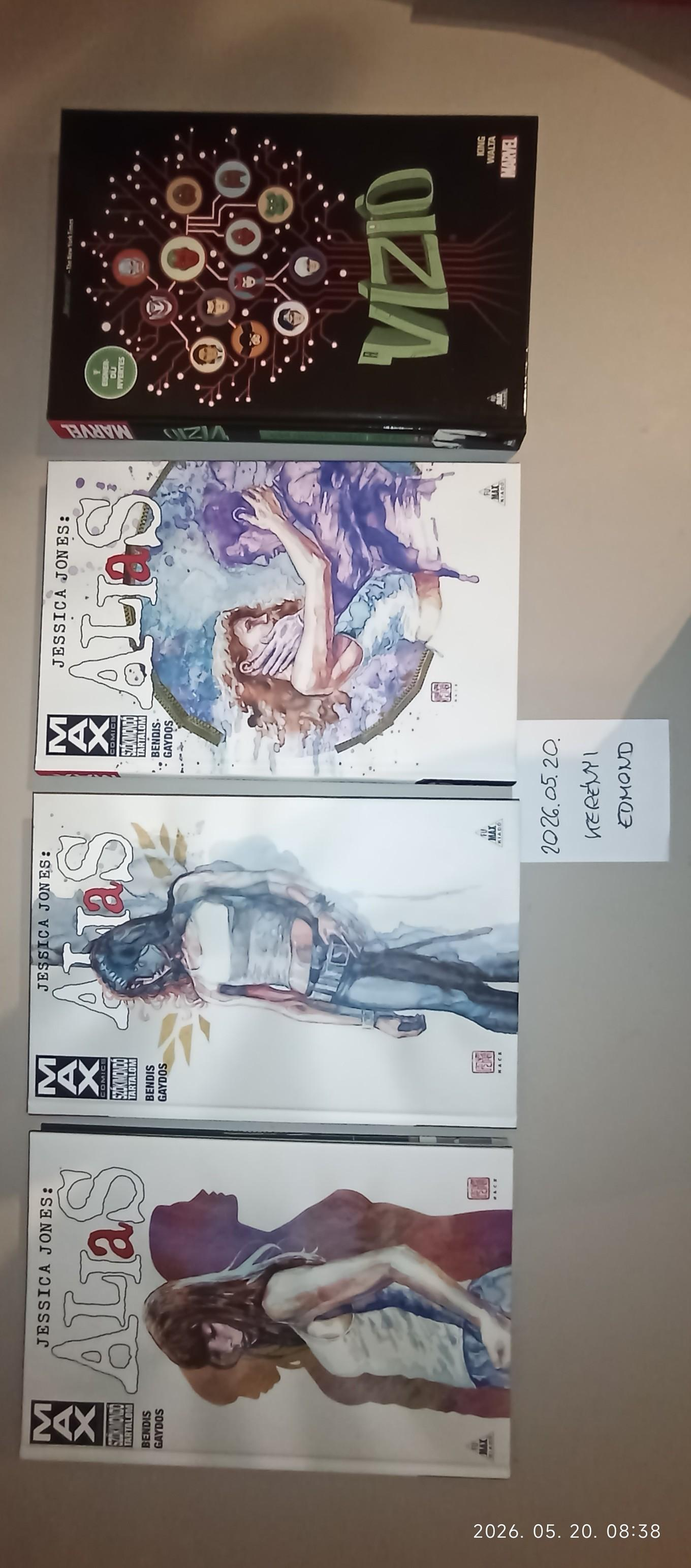comic: (19, 1129, 520, 1477), (48, 105, 536, 450), (28, 791, 521, 1127), (37, 452, 521, 783)
